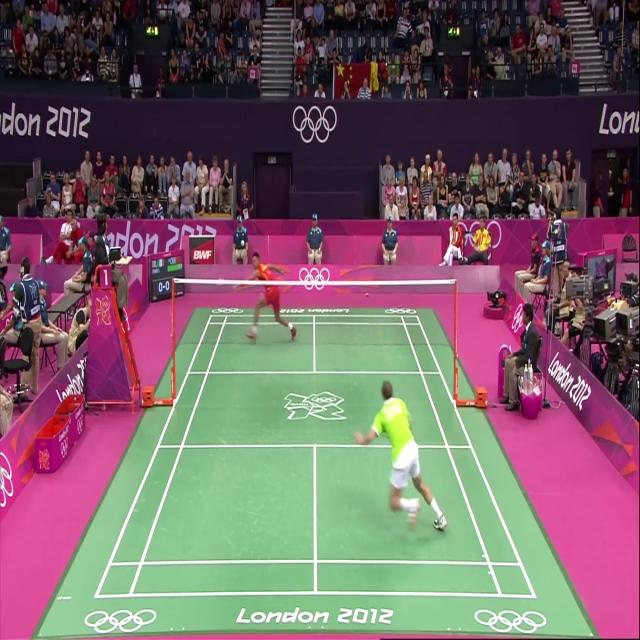Net: (174, 278, 458, 379)
Player1: (369, 329, 444, 591)
Player2: (258, 230, 293, 361)
